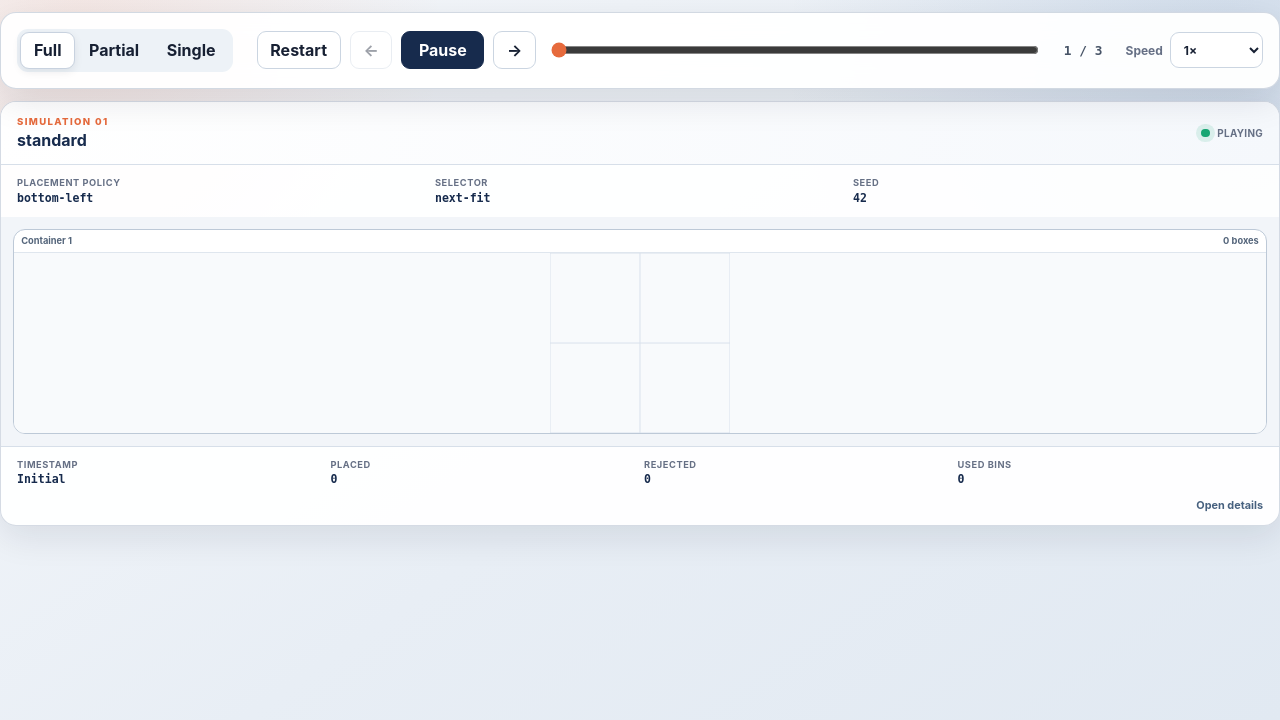
SimulationGallery › reveals containers and their immutable placements at their recorded frames
Click the button with aria-label "Pause animation" at coordinates (443, 50), box [401, 31, 484, 69]
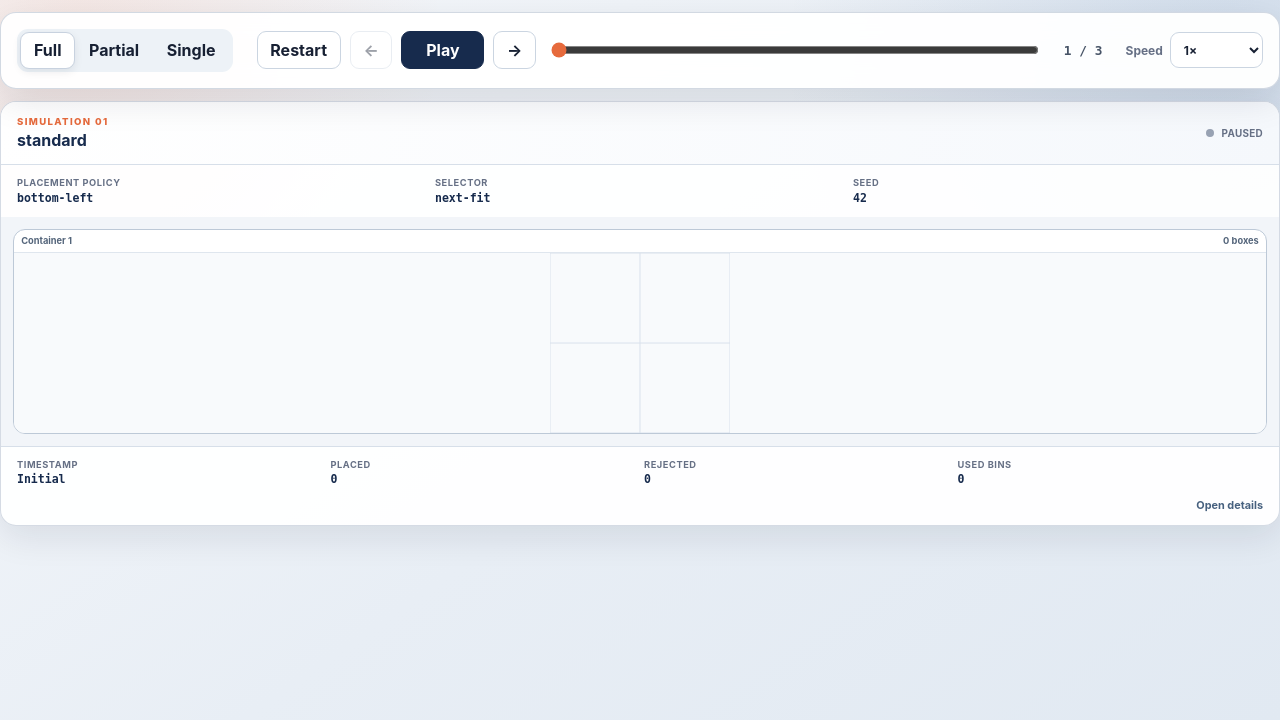
Check: the text "Container 1" is shown, box [21, 235, 72, 246]
Check: the text "Container 2" is not shown
Click the button named "Next frame" at coordinates (515, 50), box [493, 31, 536, 69]
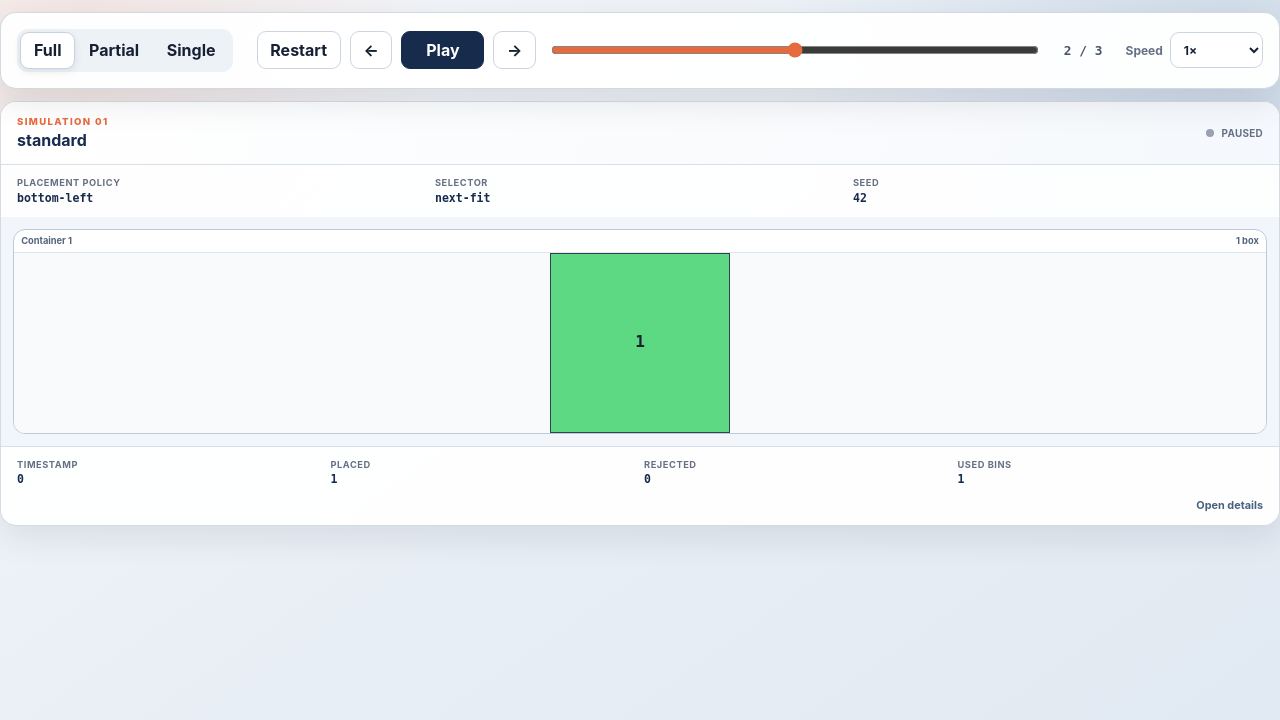
Check: the text "Container 2" is not shown
Click the button named "Next frame" at coordinates (515, 50), box [493, 31, 536, 69]
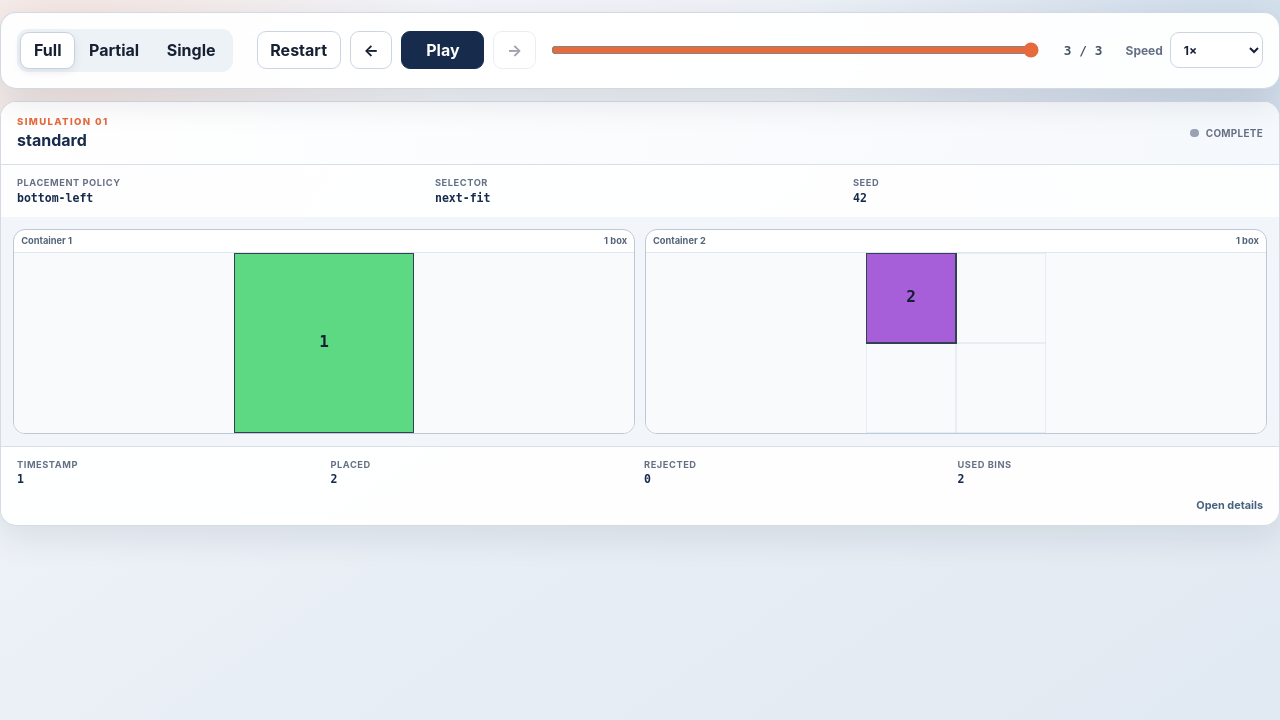
Check: the text "Container 2" is shown, box [653, 235, 706, 246]
